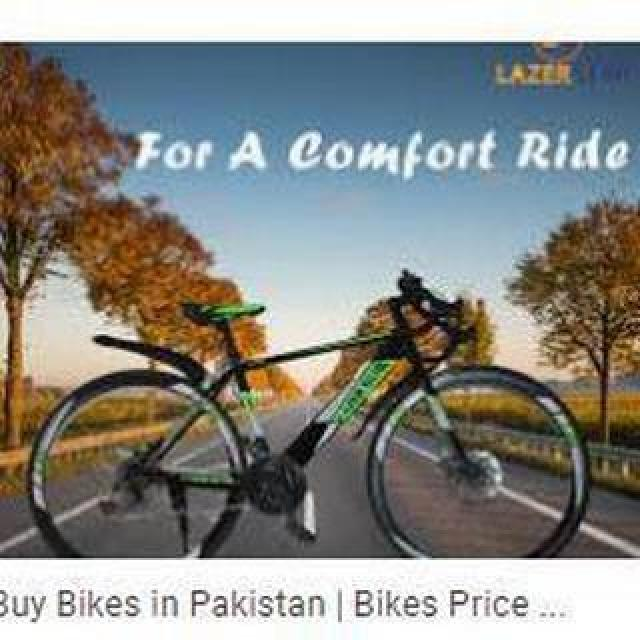Person: (28, 269, 594, 559)
